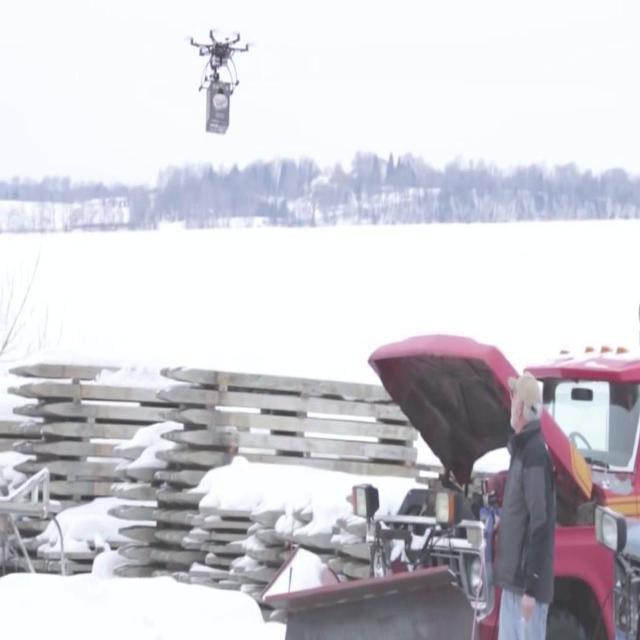drone: (187, 22, 251, 137)
